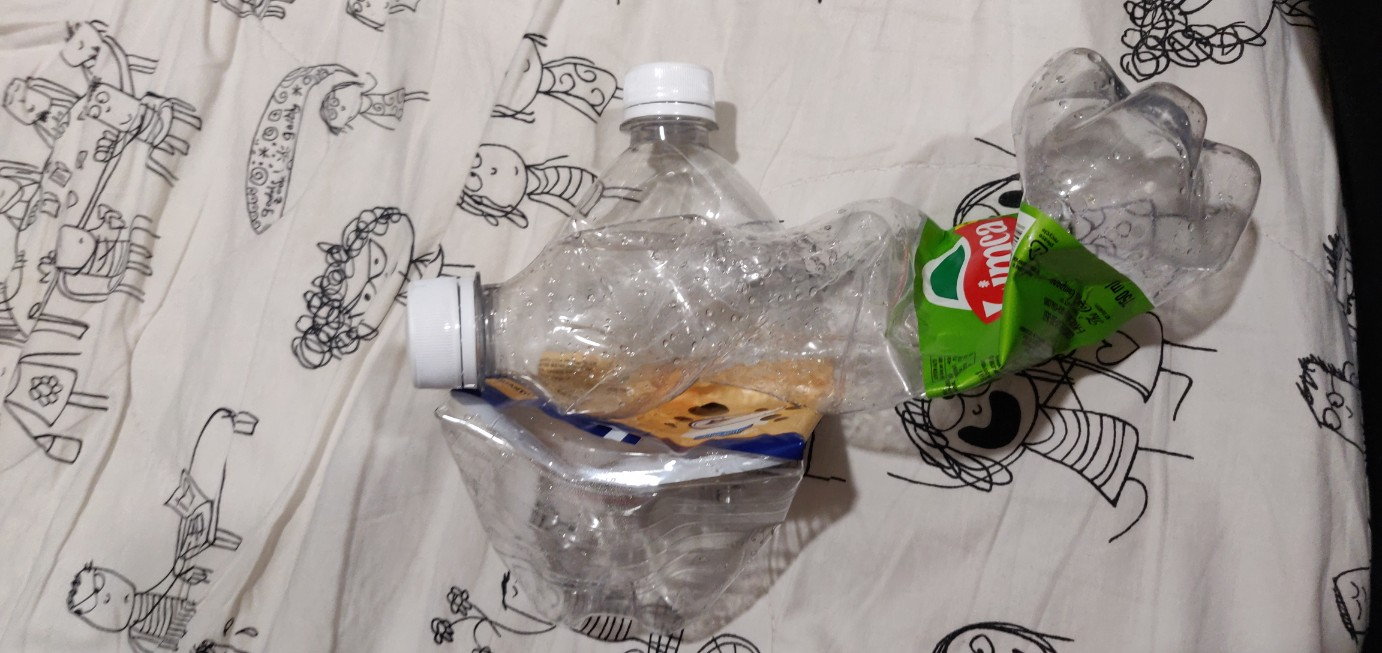Electronics: (372, 29, 1301, 485), (410, 42, 877, 648)
